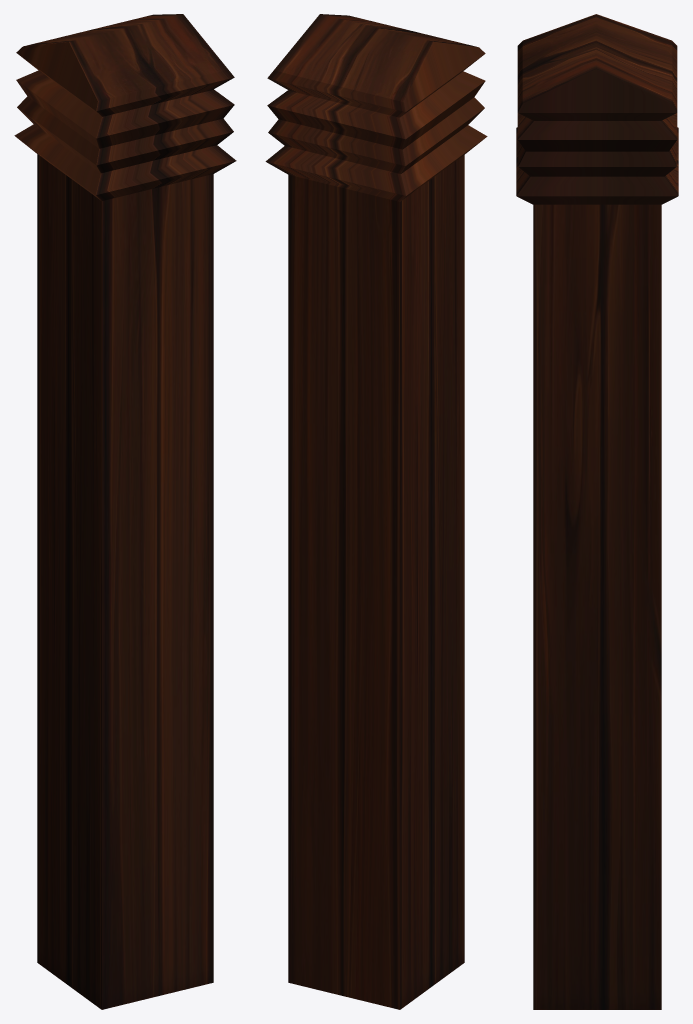
Rendered from post_river-bank.fbx.
The picture shows the model from 3 angles, left to right: view 1: azimuth 30°, elevation 25°; view 2: azimuth 150°, elevation 25°; view 3: azimuth 270°, elevation 25°; orthographic projection.
Parts seen in each view (by area): view 1: lBankColumn4; view 2: lBankColumn4; view 3: lBankColumn4.
Boxes of the visible parts, box(x1,y1,x2,y2) form: lBankColumn4: box(14, 14, 236, 1009); lBankColumn4: box(265, 14, 487, 1009); lBankColumn4: box(516, 14, 678, 1009).
Size of the model in its own units: 0.1335 by 0.8551 by 0.1335.
1 material, 1 textured.
